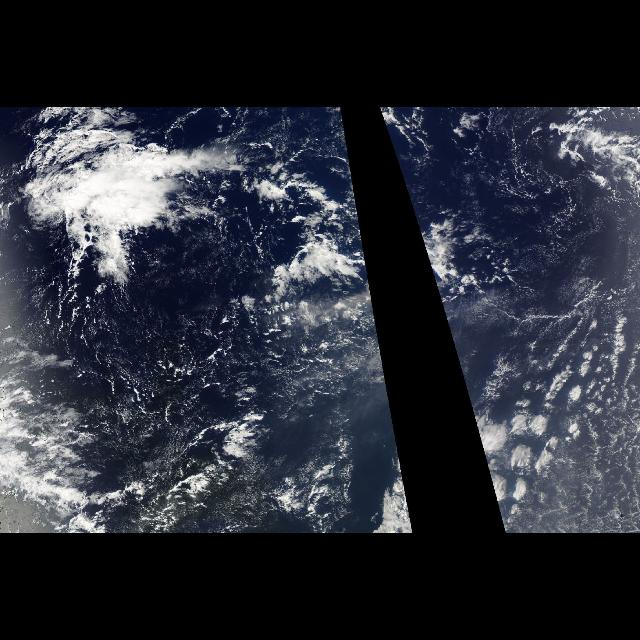Flower: (4, 118, 260, 318), (460, 296, 628, 530)
Gravel: (2, 264, 362, 530), (203, 120, 361, 258)
